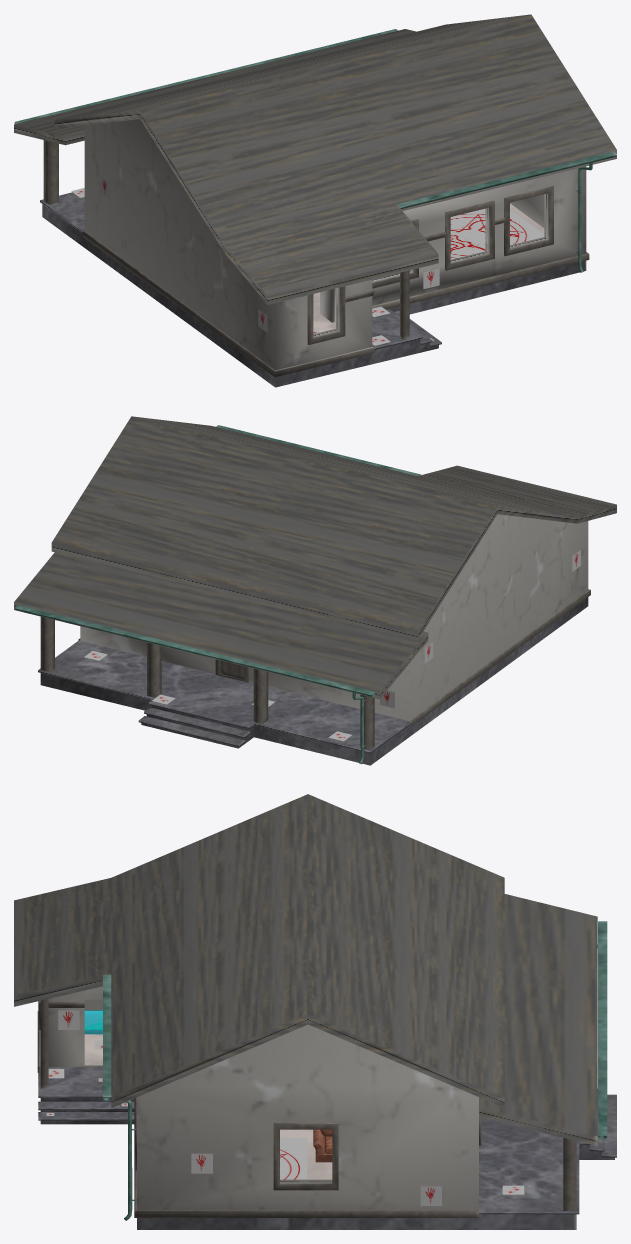
File: MAP 3.fbx
3 renders of one model, top to bottom at view 1: azimuth 30°, elevation 25°; view 2: azimuth 150°, elevation 25°; view 3: azimuth 270°, elevation 25°, orthographic. The views are drawn at different scales.
Visible parts, largest first — view 1: UP, House4, Alpha_01; view 2: House4, UP; view 3: UP, House4, Alpha_01, Sofa.
Boxes of the visible parts, left/top/right/bottom form: UP: left=54, top=14, right=616, bottom=304; House4: left=14, top=29, right=616, bottom=387; Alpha_01: left=450, top=208, right=544, bottom=259; House4: left=14, top=425, right=590, bottom=765; UP: left=51, top=416, right=616, bottom=640; UP: left=14, top=794, right=504, bottom=1107; House4: left=37, top=894, right=616, bottom=1229; Alpha_01: left=280, top=1137, right=307, bottom=1179; Sofa: left=313, top=1129, right=332, bottom=1162.
Bounding box in the file's own units: 1243 × 600 × 1440.
